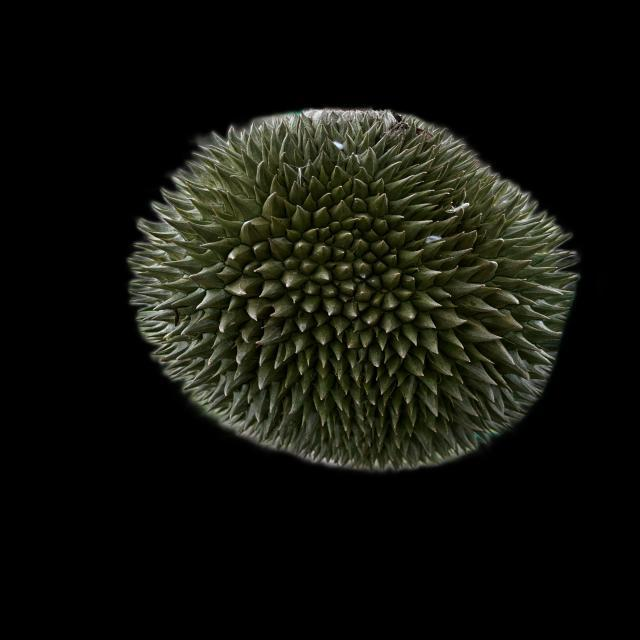immature: (125, 107, 585, 468)
